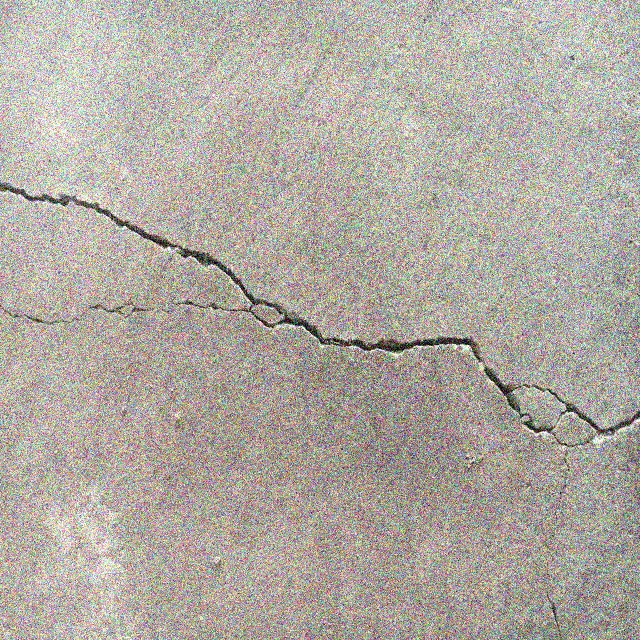SurfaceCrack: (0, 138, 639, 520)
